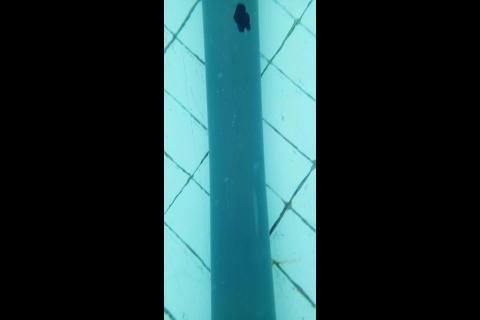kebocoran: (232, 1, 252, 32)
